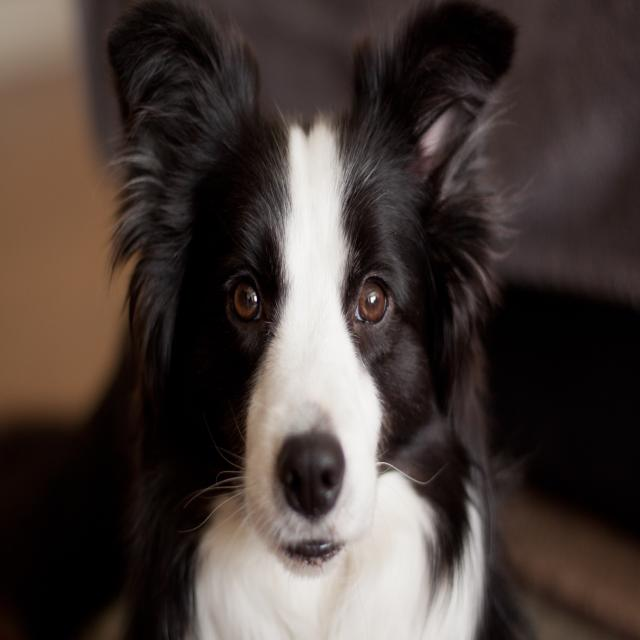ALASKAN_MALAMUTE: (78, 0, 550, 640)
